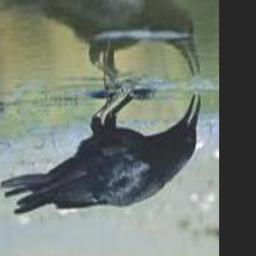Crow: (0, 88, 201, 217)
